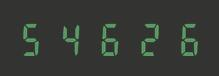five: (18, 20, 53, 56)
four: (54, 20, 89, 56)
six: (90, 20, 125, 56), (162, 20, 197, 56)
two: (126, 20, 161, 56)
